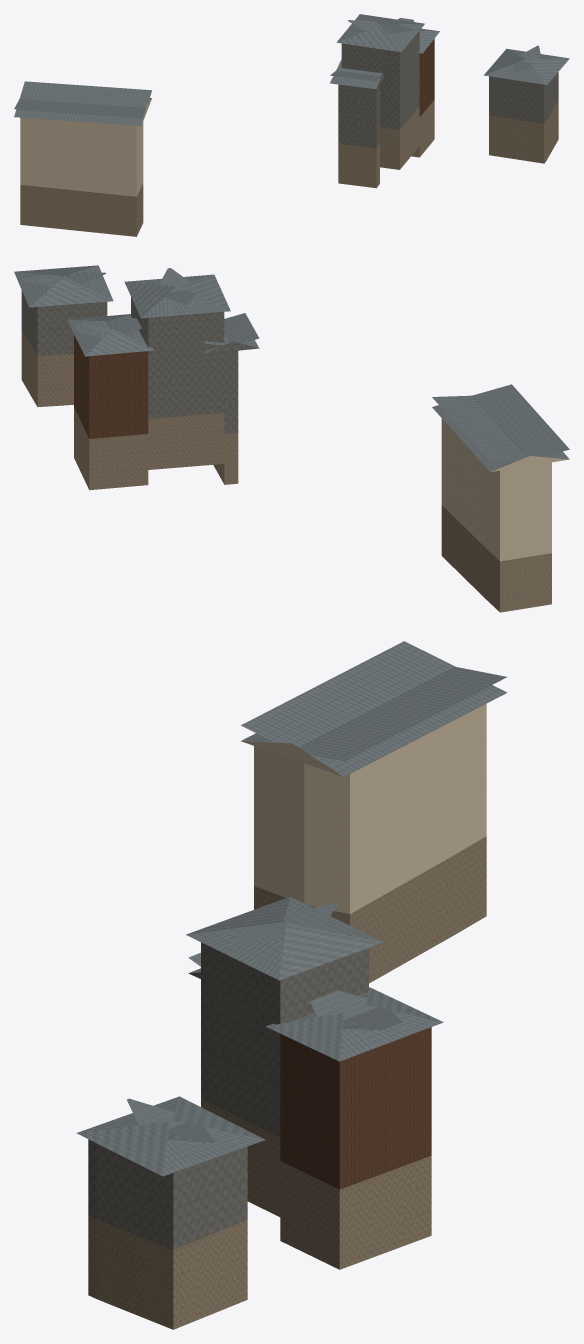
The model's file is bld_c17_27_386.gltf.
3 views of the same model, one above another, from view 1: azimuth 30°, elevation 25°; view 2: azimuth 150°, elevation 25°; view 3: azimuth 270°, elevation 25° (orthographic). The views are drawn at different scales.
Parts seen in each view (by area): view 1: bld_c17_27_386; view 2: bld_c17_27_386; view 3: bld_c17_27_386.
Part boxes in pixels (bbox=[...]): bld_c17_27_386: bbox=[14, 14, 569, 236]; bld_c17_27_386: bbox=[14, 265, 569, 612]; bld_c17_27_386: bbox=[76, 641, 507, 1329].
Bounding box in the file's own units: 66.05 × 18.5 × 24.9.
7 materials, 7 textured.
